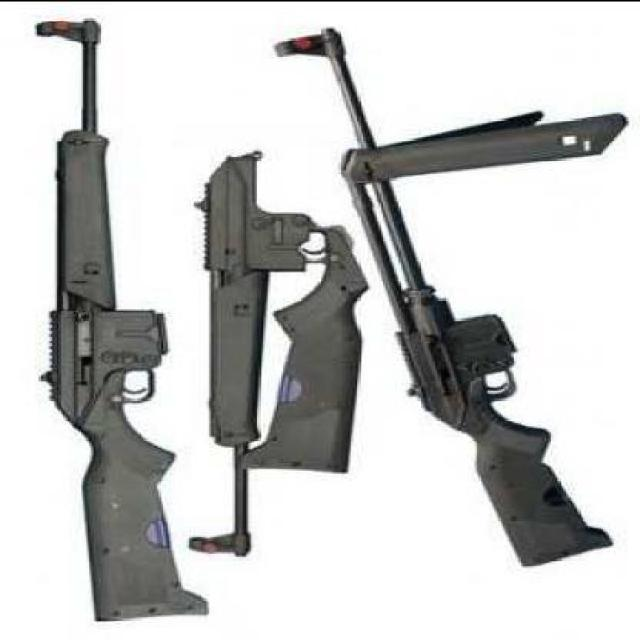Rifle: (272, 25, 628, 567), (34, 17, 209, 622), (187, 148, 369, 556)
